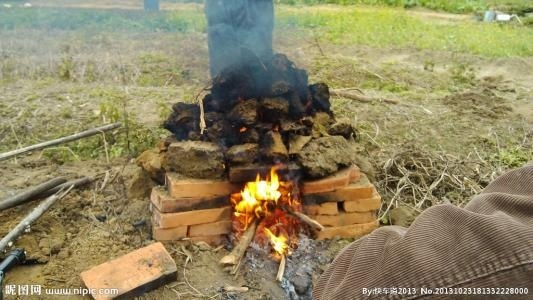fire: (227, 163, 295, 257)
